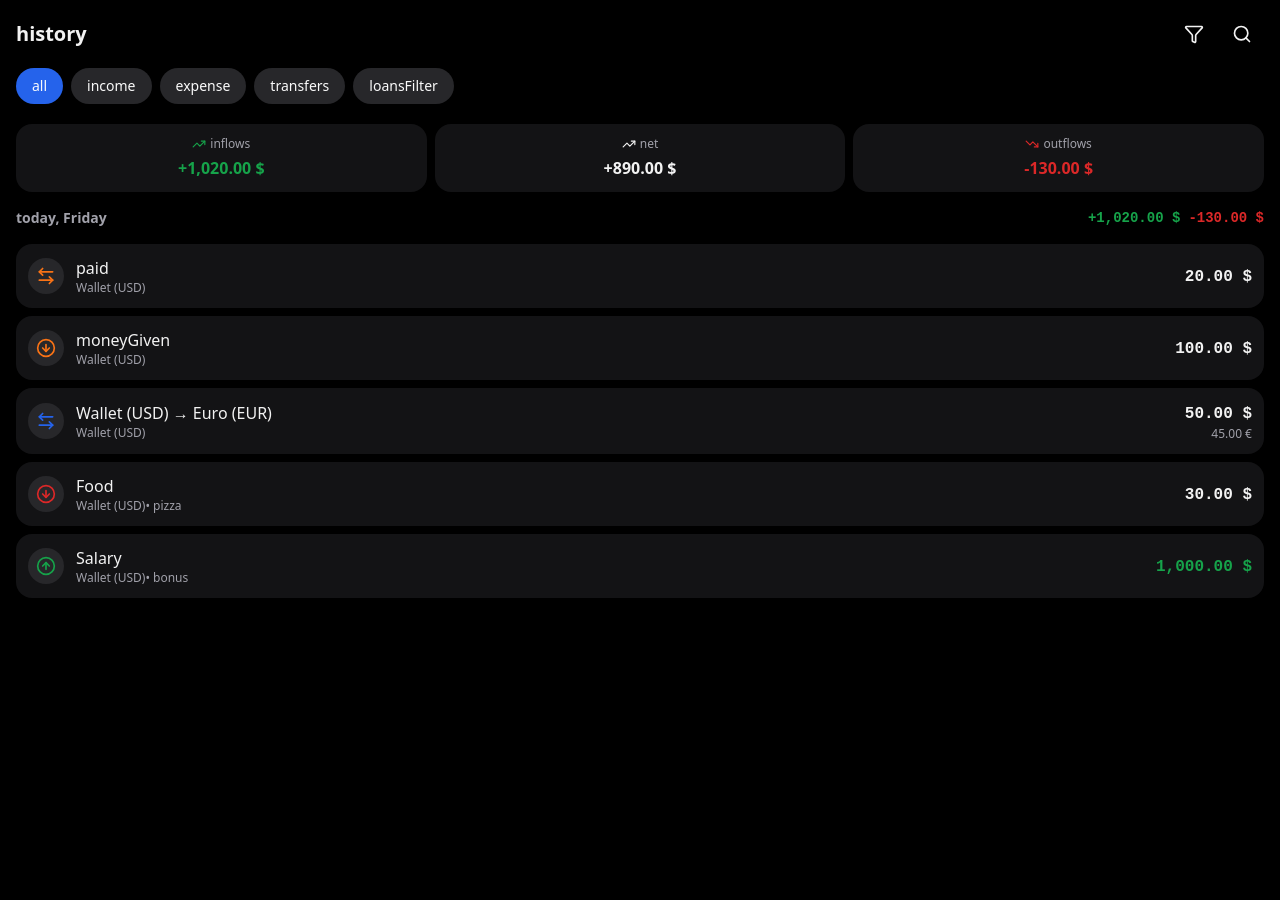
it: HistoryPage list › searches by comment, account, category and income source
This screenshot has width=1280, height=900.
Click the button with class "lucide-search" at x=1242, y=34, box [1220,12,1264,56]
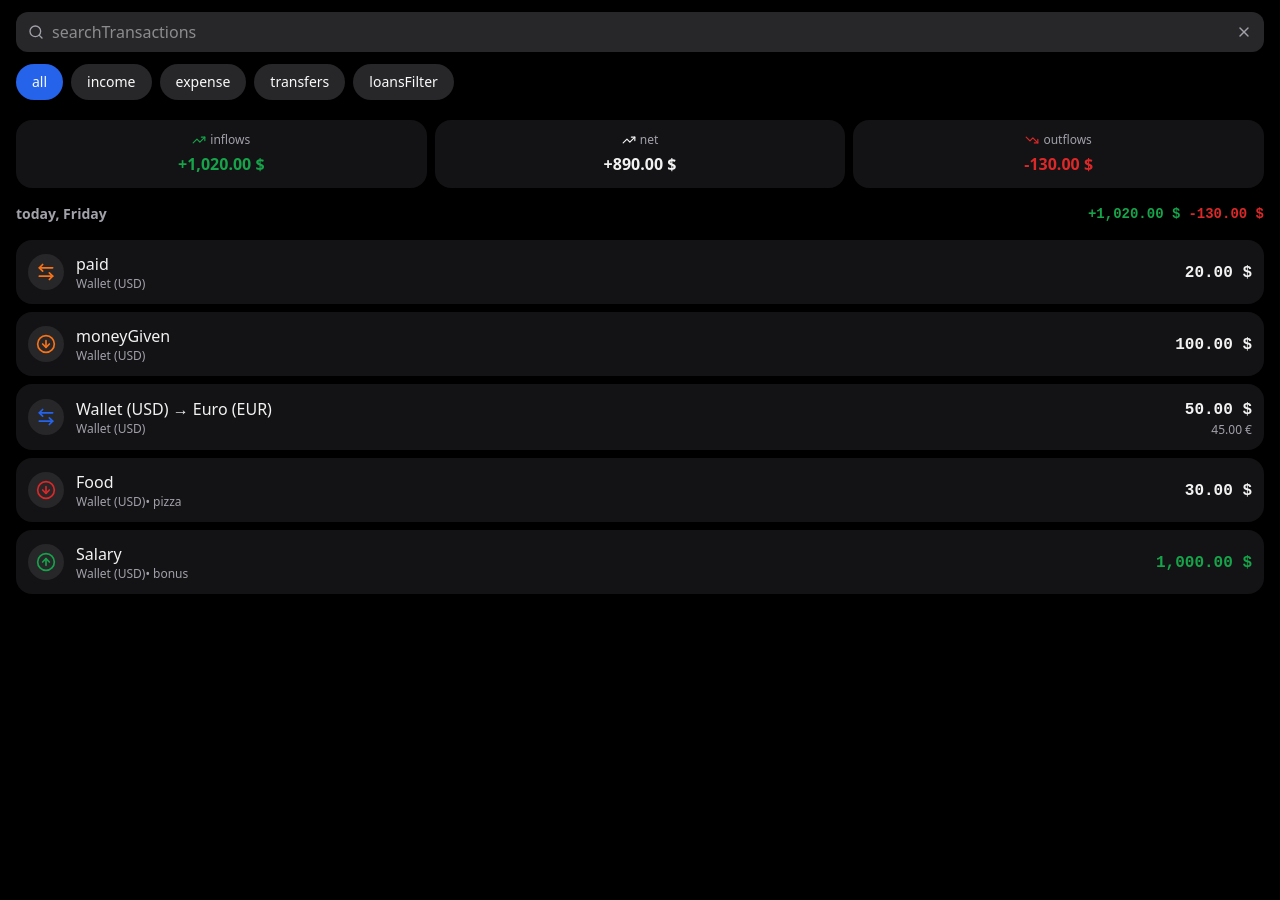
Type "PIZZA" into the field with placeholder "searchTransactions" at x=640, y=32, box [52,20,1228,44]
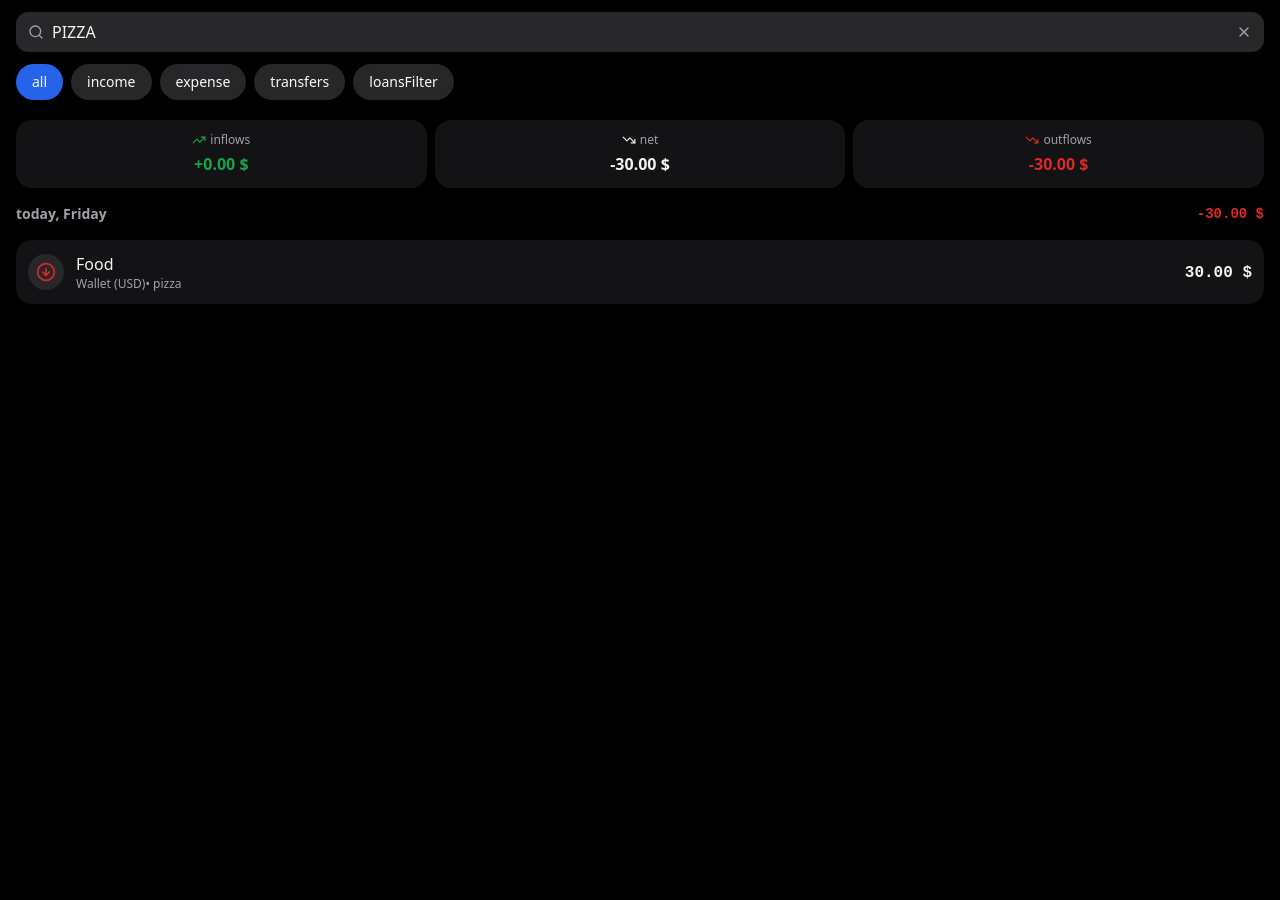
Check: the text "Food" is shown, box [76,253,114,275]
Check: the button "Salary" is gone
Replace the text in the field with placeholder "searchTransactions" with "salary" at x=640, y=32, box [52,20,1228,44]
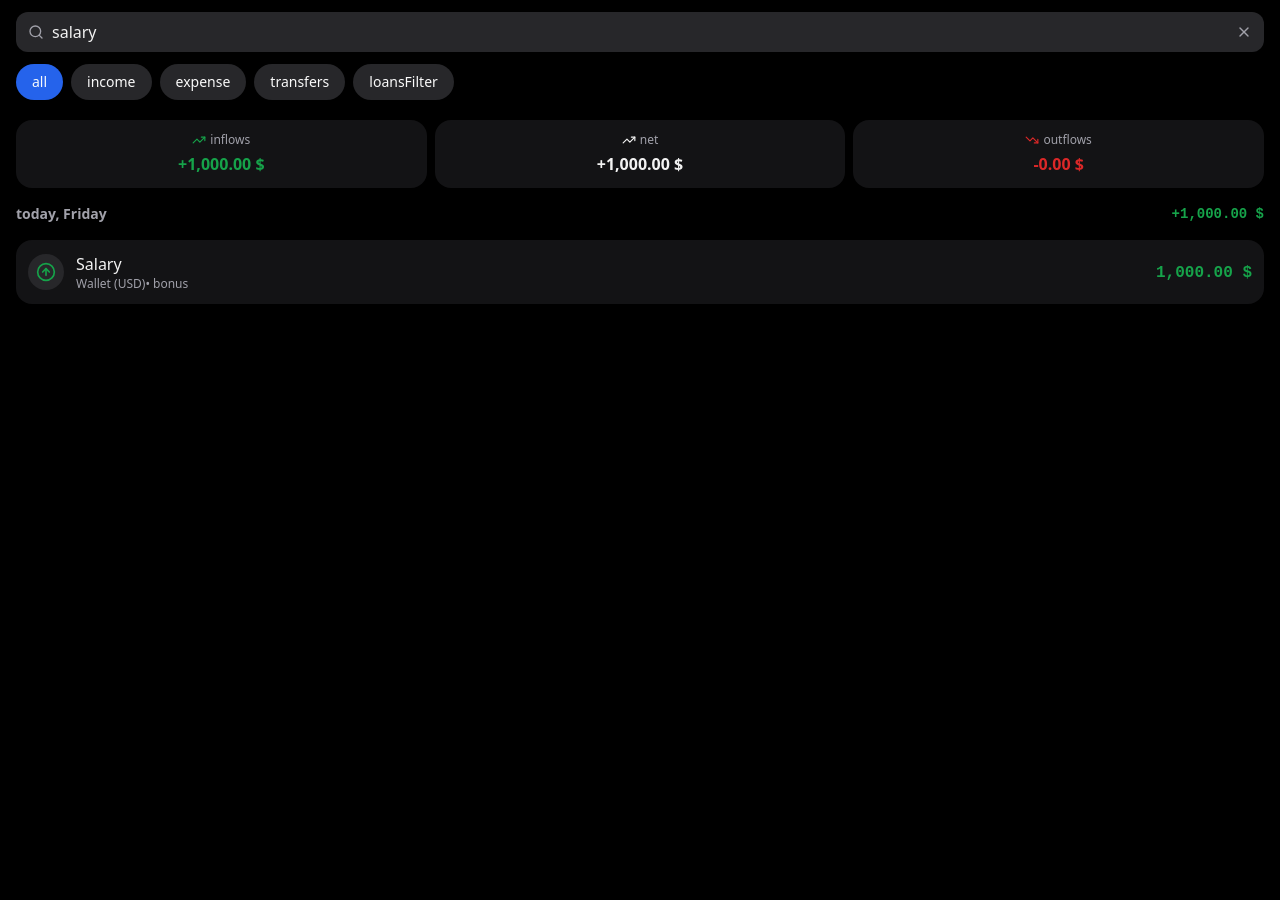
Check: the text "Salary" is shown, box [76,253,122,275]
Replace the text in the field with placeholder "searchTransactions" with "nothing-matches" at x=640, y=32, box [52,20,1228,44]
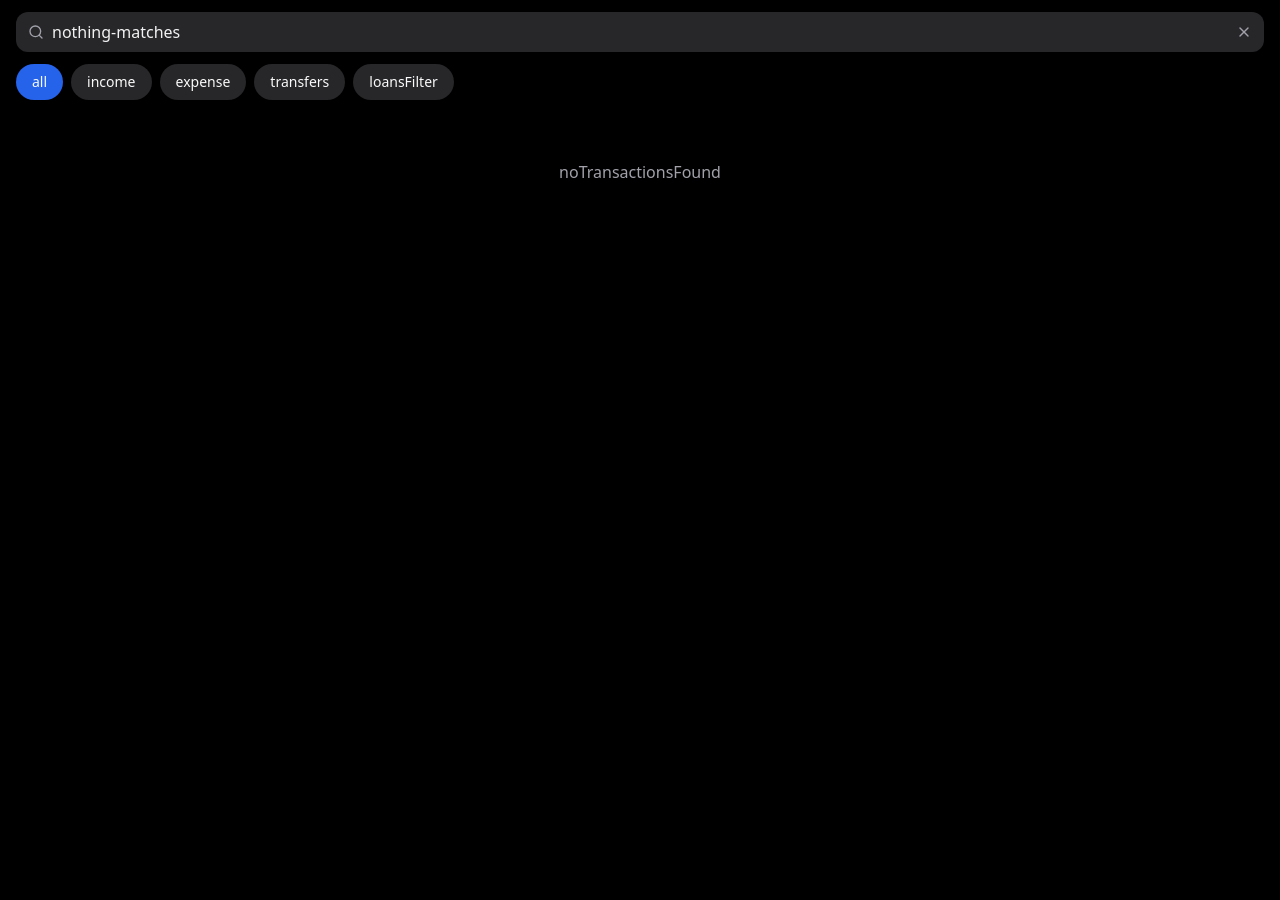
Check: the text "noTransactionsFound" is shown, box [559,161,721,183]
Click the button with class "lucide-x" at x=1244, y=32, box [1236,24,1252,40]
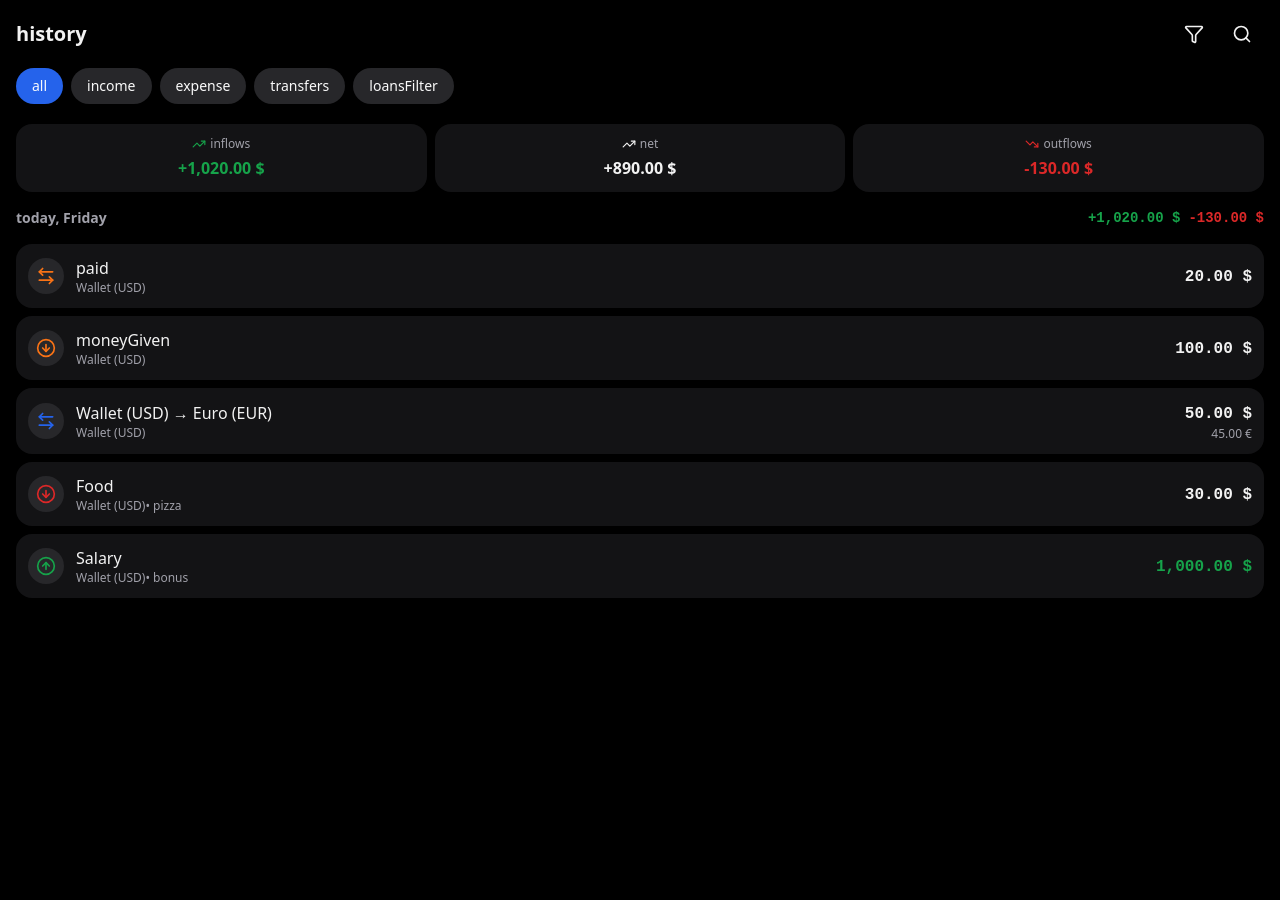
Check: the text "Food" is shown, box [76,475,114,497]
